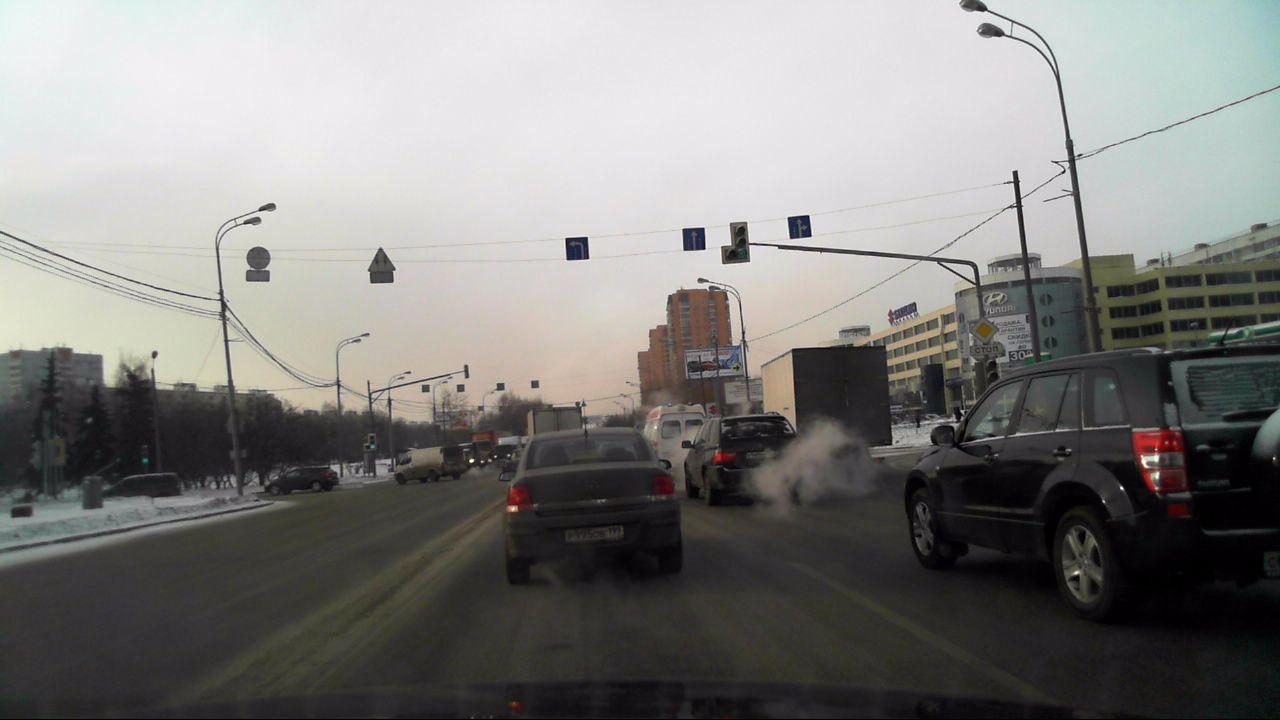2_1: (972, 316, 998, 343)
5_15_2: (681, 227, 707, 251), (787, 214, 811, 239), (564, 237, 590, 260)
6_16: (970, 343, 1004, 356)
